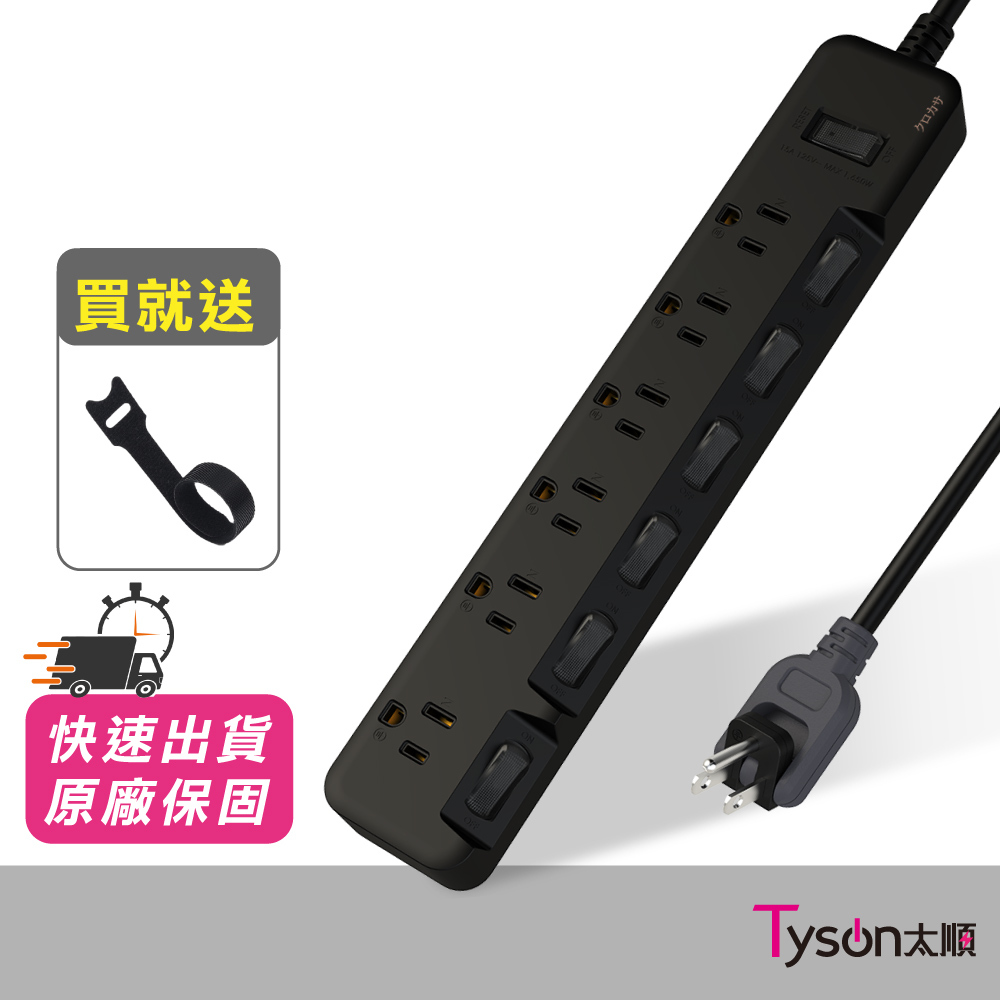socket: (324, 8, 967, 891)
